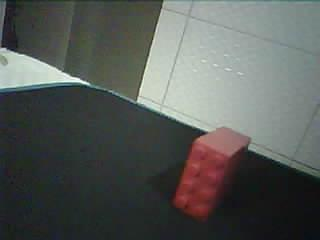lego: (169, 126, 252, 222)
